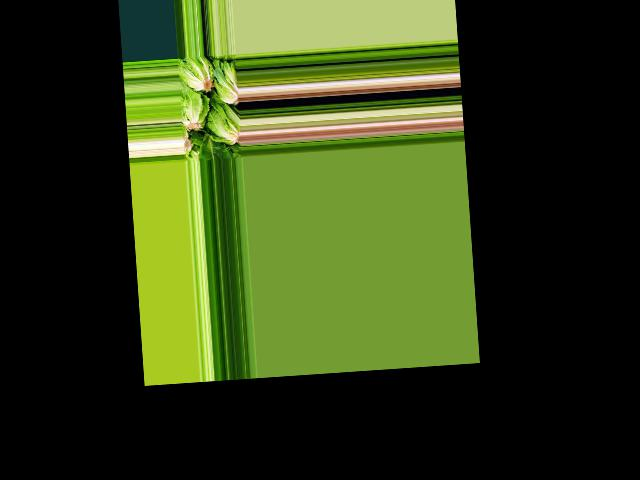lettuce: (197, 135, 223, 161)
